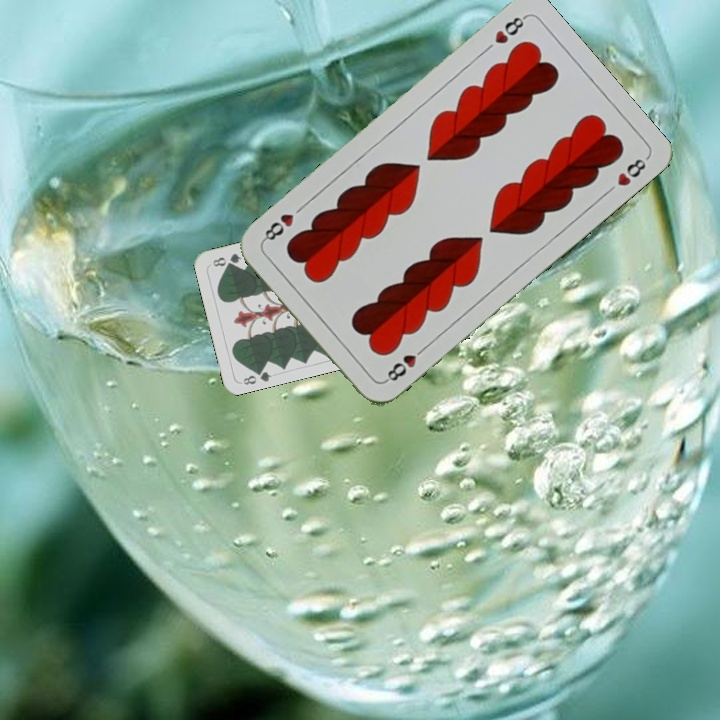G8: (239, 364, 274, 388)
H8: (380, 342, 429, 385), (490, 12, 529, 47)
